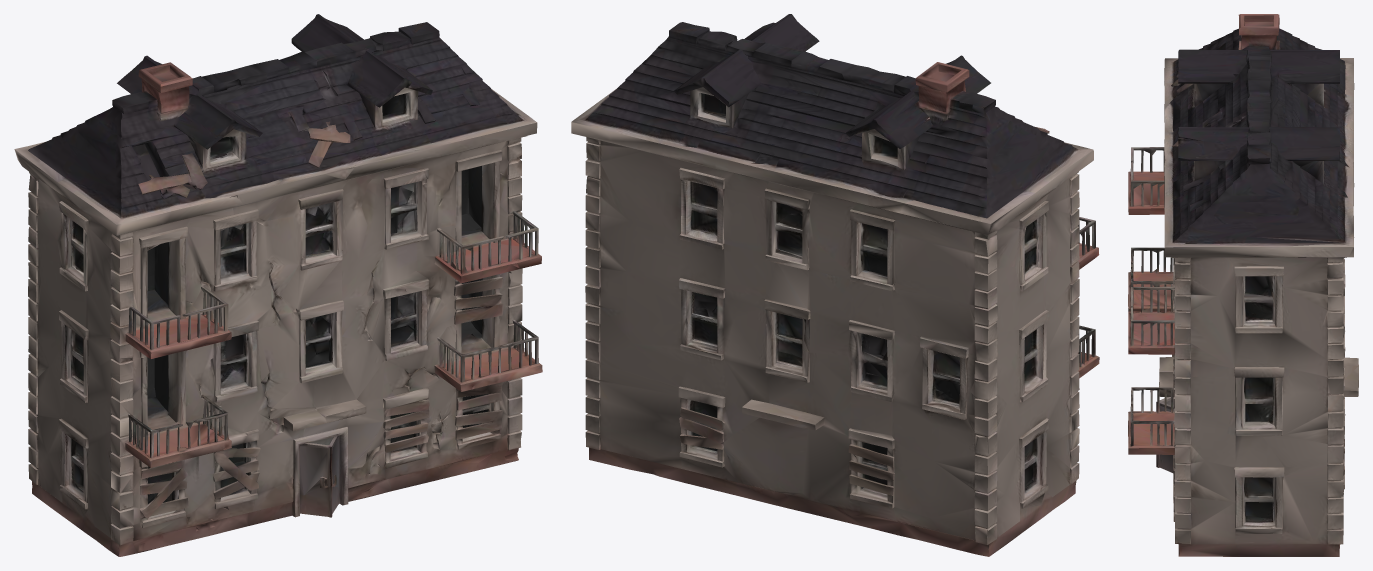
File: house_townhouse_idle.glb
3 renders of one model, left to right at view 1: azimuth 30°, elevation 25°; view 2: azimuth 150°, elevation 25°; view 3: azimuth 270°, elevation 25°, orthographic. The views are drawn at different scales.
Parts seen in each view (by area): view 1: tripo_node_41891205-4091-4cc9-8222-fb7b5dd60525; view 2: tripo_node_41891205-4091-4cc9-8222-fb7b5dd60525; view 3: tripo_node_41891205-4091-4cc9-8222-fb7b5dd60525.
Part boxes in pixels (box(x1,y1,x2,y2)): tripo_node_41891205-4091-4cc9-8222-fb7b5dd60525: box(14, 14, 542, 556); tripo_node_41891205-4091-4cc9-8222-fb7b5dd60525: box(571, 14, 1099, 556); tripo_node_41891205-4091-4cc9-8222-fb7b5dd60525: box(1128, 14, 1358, 556).
Bounding box in the file's own units: 10 × 9.79 × 5.15.
Materials: 1 (1 with a texture image).
